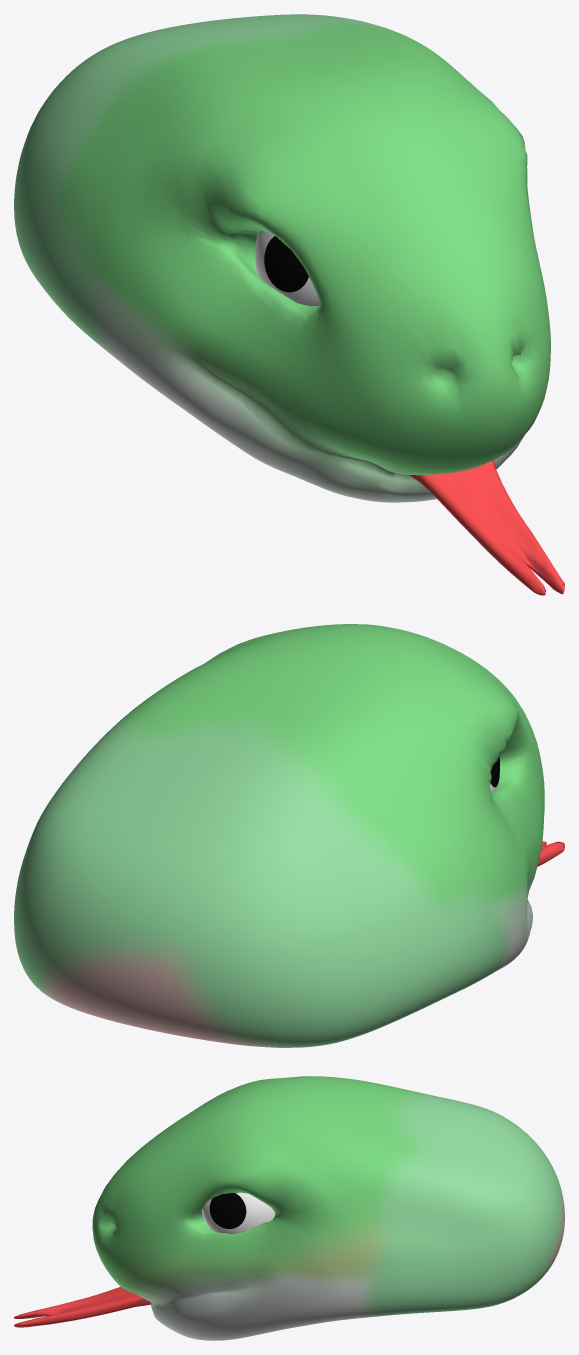
The model's file is snake_head.fbx.
The picture shows the model from 3 angles, top to bottom: view 1: azimuth 30°, elevation 25°; view 2: azimuth 150°, elevation 25°; view 3: azimuth 270°, elevation 25°; orthographic projection. The views are drawn at different scales.
Visible parts, largest first — view 1: 平面, 球体; view 2: 平面; view 3: 平面, 球体.
Boxes of the visible parts, bbox=[...] form: 平面: bbox=[14, 14, 564, 595]; 球体: bbox=[255, 230, 320, 306]; 平面: bbox=[14, 624, 564, 1047]; 平面: bbox=[14, 1076, 564, 1340]; 球体: bbox=[201, 1192, 274, 1234].
Size of the model in its own units: 126 by 102 by 221.
